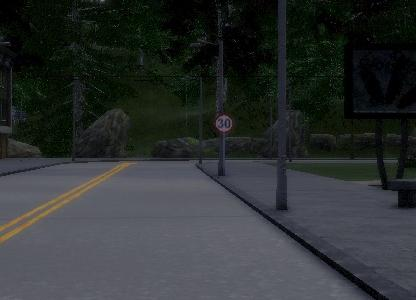Speed_30: (213, 112, 234, 136)
